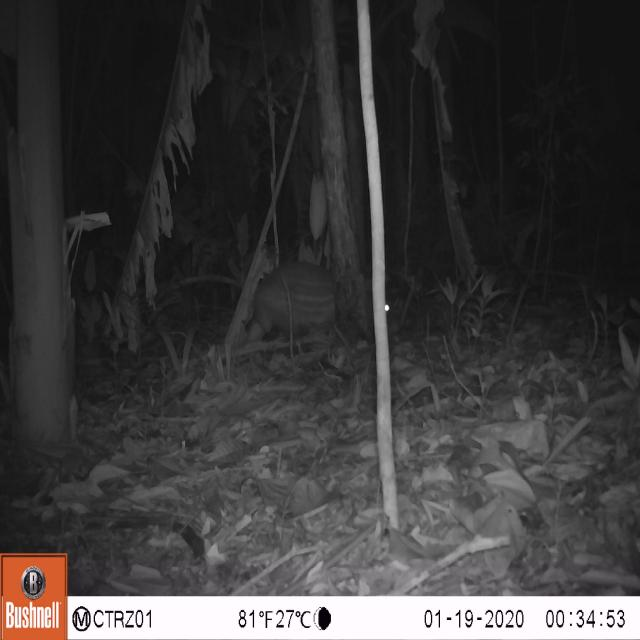Spotted Paca: (232, 254, 404, 368)
